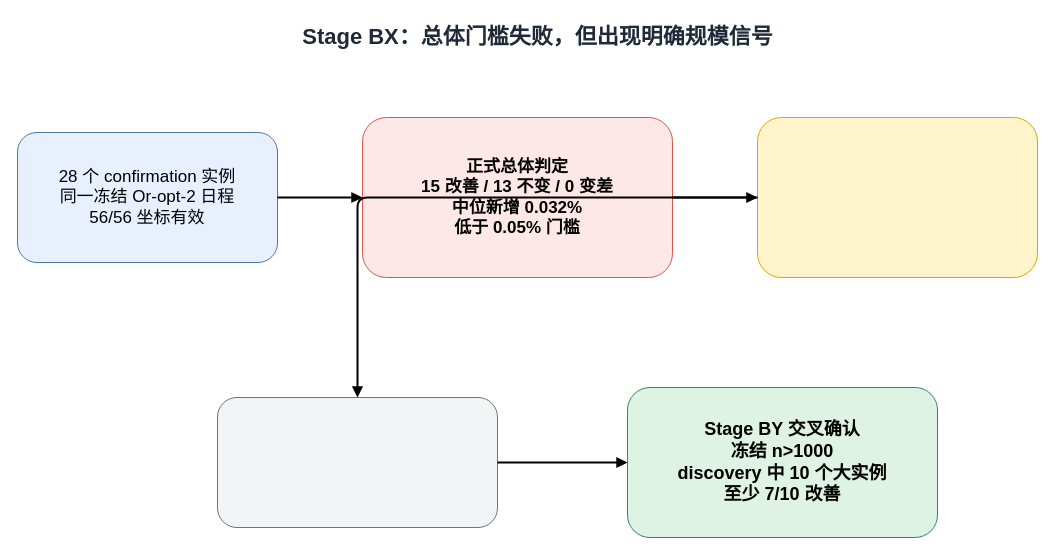
The diagram is 1055 pixels wide and 555 high, and some of its shapes have lost their labels. The shapes that lost their labels are listed below. From the top down, each one's centre as x and y in pixels, then its label:
At point (897, 197): "事后规模信号 节点数与收益相关 0.608 >1000 节点：8/8 改善 中位新增 0.28%".
At point (357, 462): "不能直接升级结论 规模阈值看过 confirmation 必须换另一半数据".
